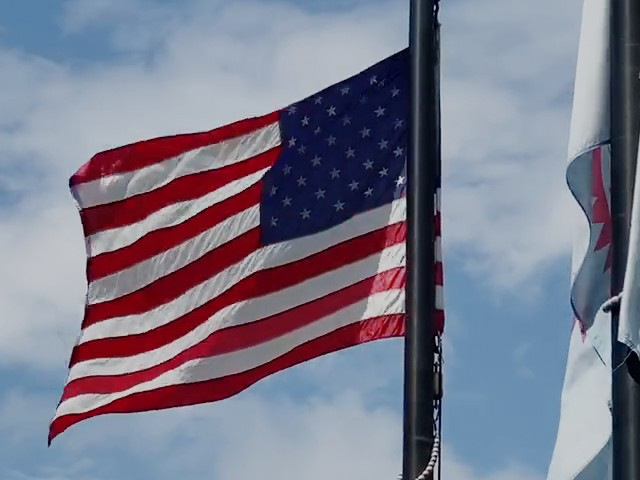America flag: (47, 45, 410, 449)
